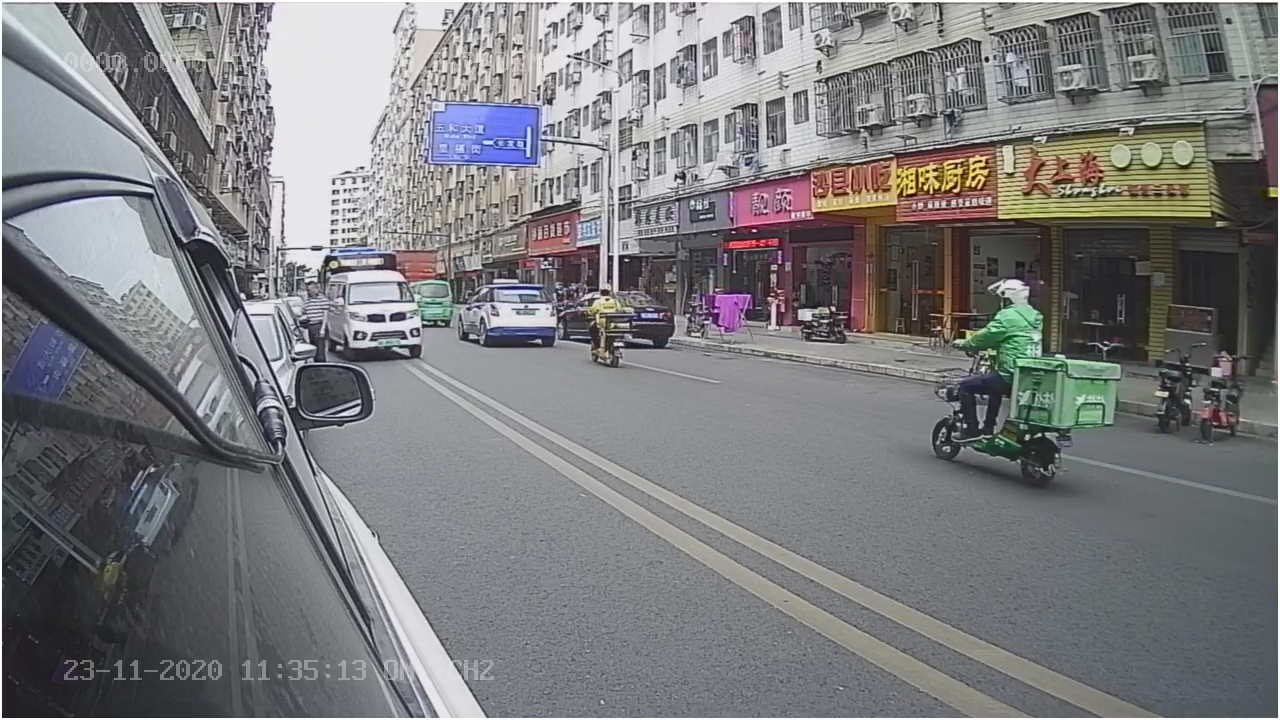person: (953, 267, 1050, 360)
